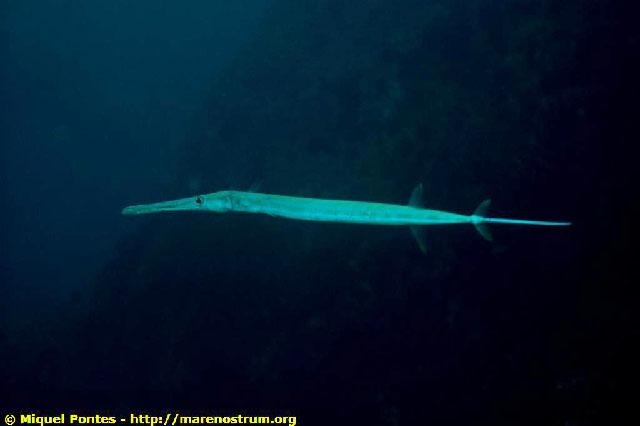Fistularia commersonii: (119, 181, 572, 254)
